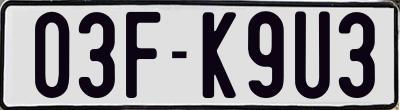0: (34, 11, 72, 102)
3: (338, 12, 379, 98), (77, 12, 114, 100)
9: (245, 9, 284, 97)
F: (125, 12, 162, 102)
K: (203, 9, 238, 98)
U: (295, 10, 335, 101)
